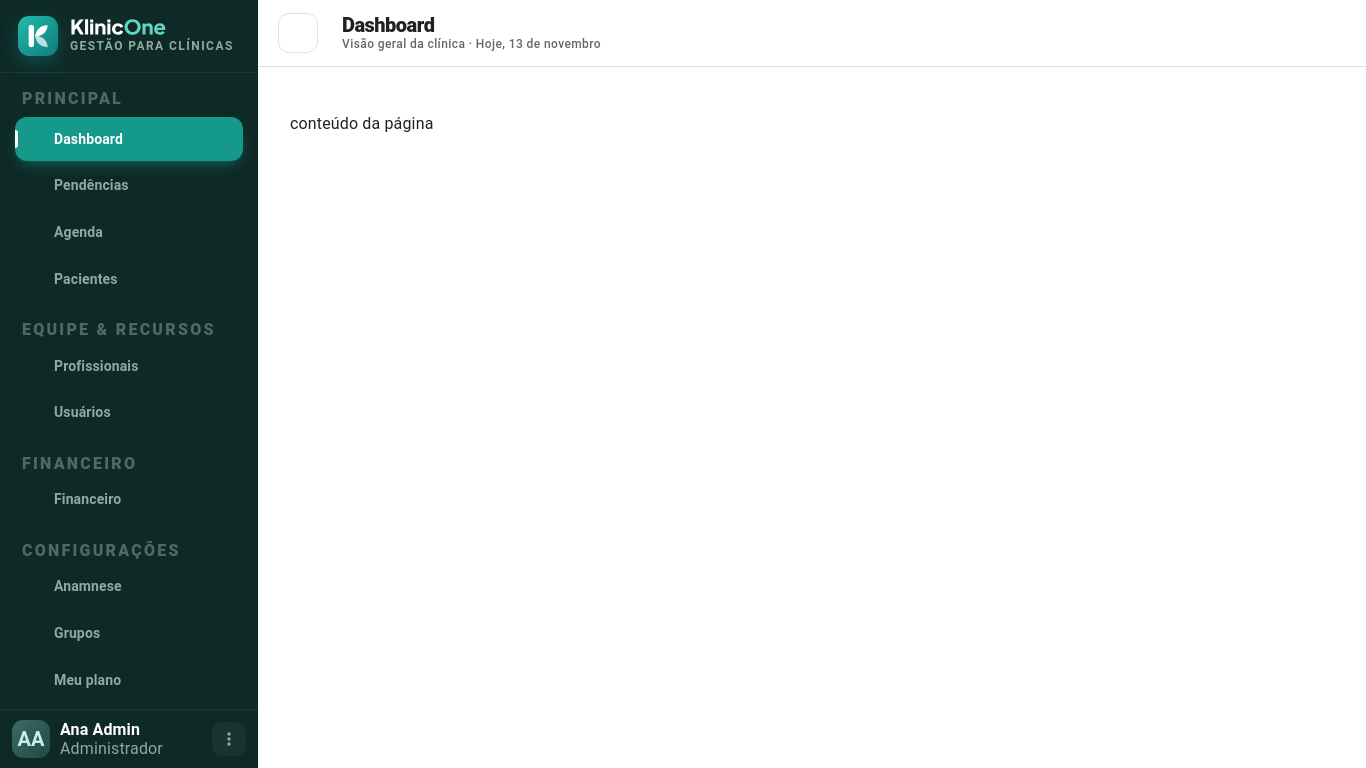
Scenario: Layout › navega ao clicar num item do menu
Click the button "Pacientes" at [86, 279], box [54, 271, 118, 287]
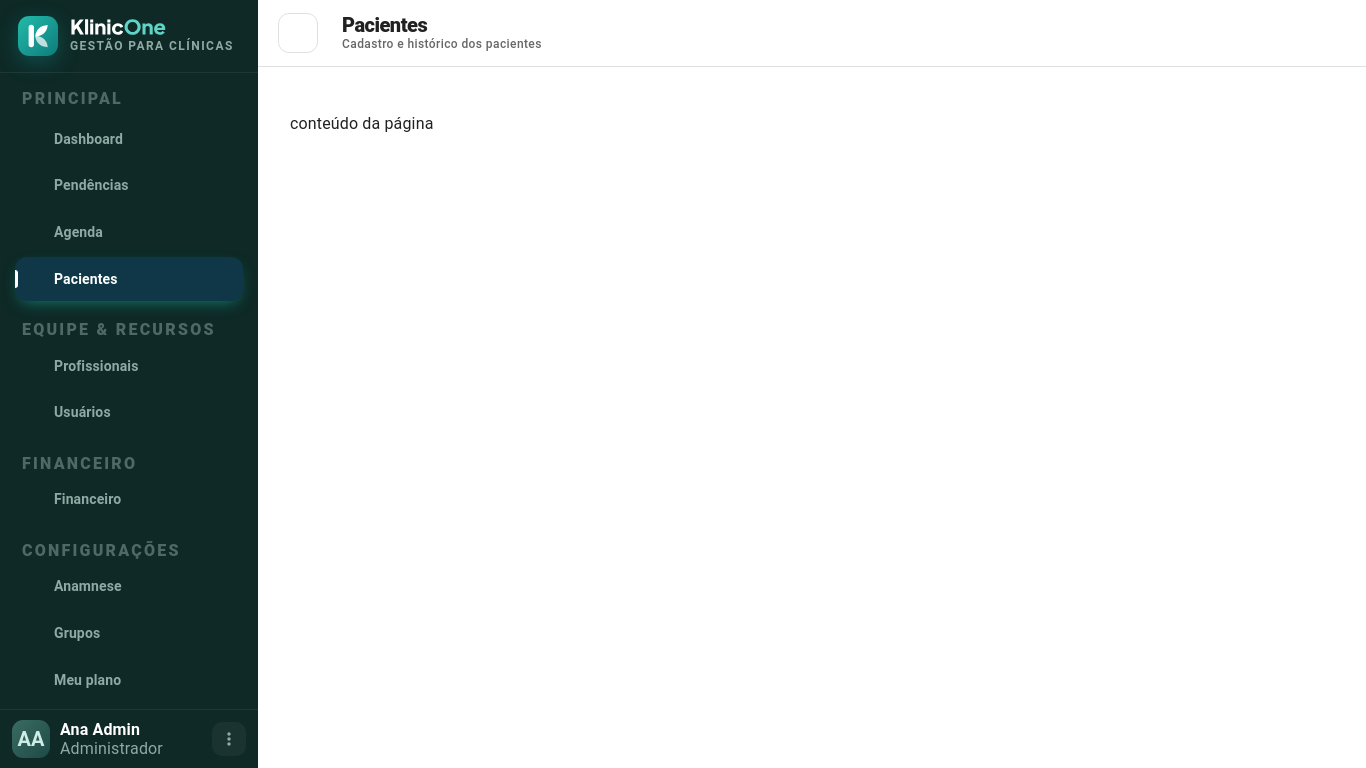
Check: the heading "Pacientes" is shown, box [342, 13, 427, 37]
